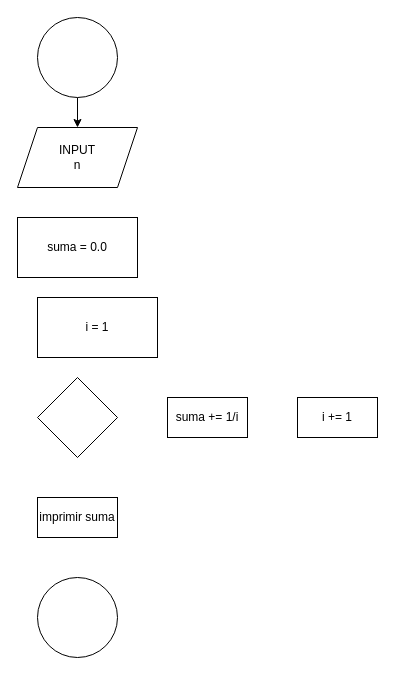
The diagram is 395 pixels wide and 675 high, and some of its shapes have lost their labels. Here are the shapes that lost their labels. From the top down, the centre of each, then its label:
At (x=77, y=57): "INICIO".
At (x=77, y=417): "i <= n".
At (x=77, y=617): "FIN".
